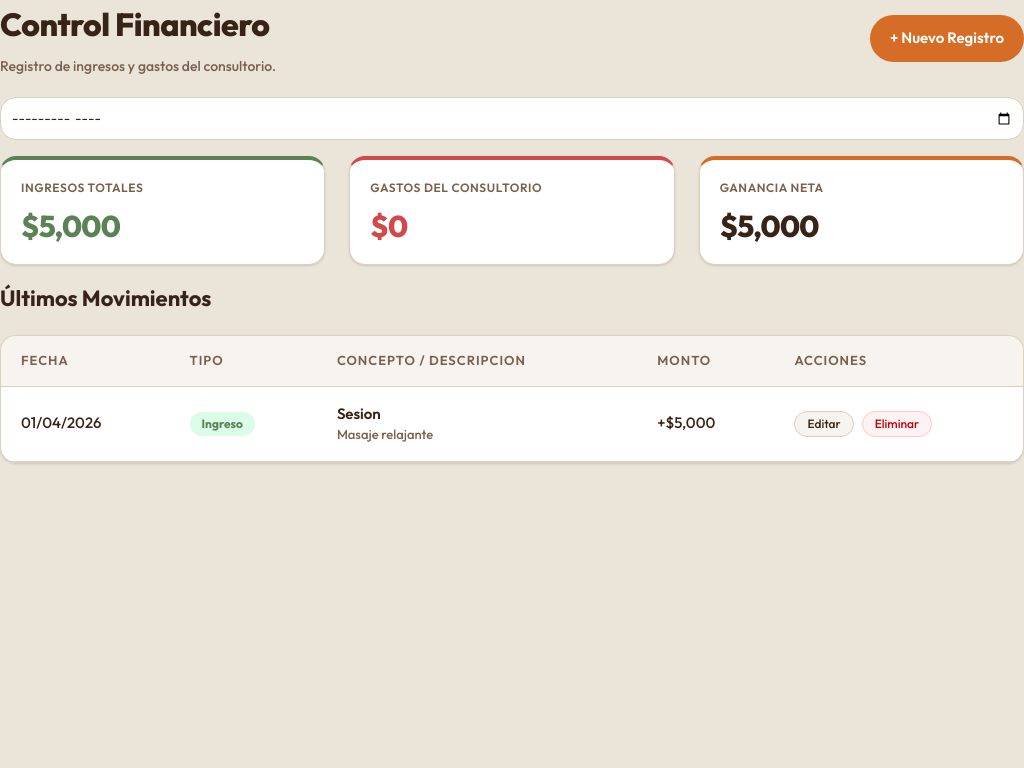
D28 — Independent submitting states › submitting edit form does not disable the create button
This screenshot has width=1024, height=768.
Expected: the text "Sesion" is shown, x1=337 y1=404 x2=381 y2=422
Click the button "Editar": point(824, 424) x1=794 y1=410 x2=854 y2=436
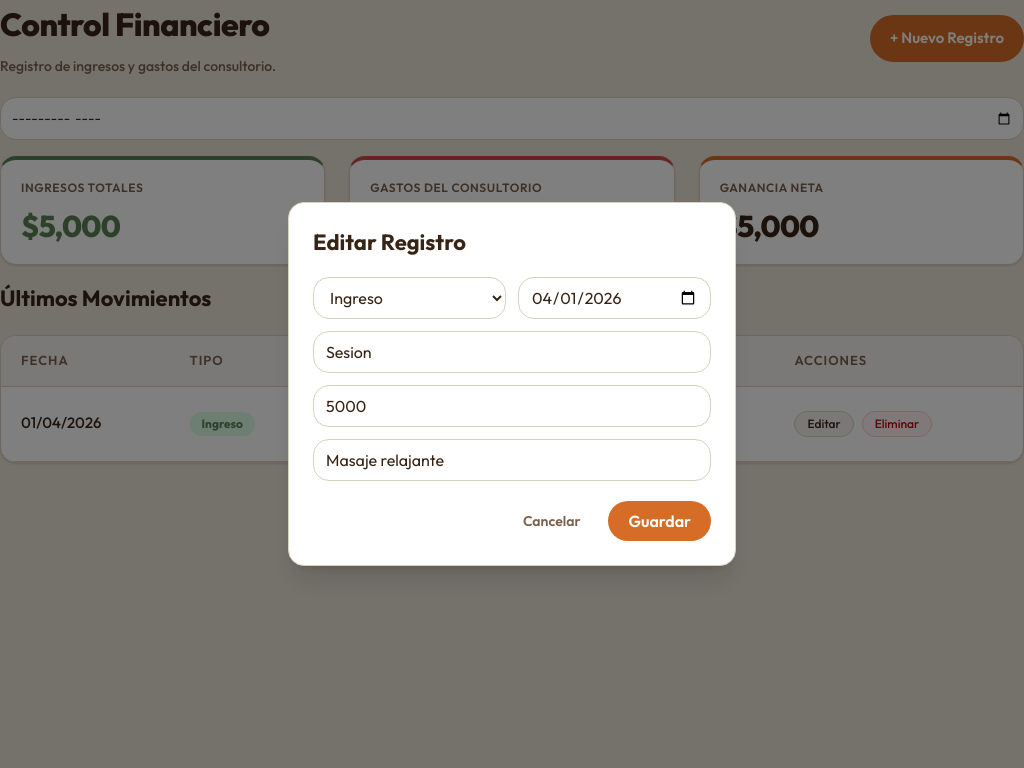
Now the heading "Editar Registro" is shown, box x1=313 y1=228 x2=466 y2=256
Submit the form, box x1=313 y1=277 x2=711 y2=541
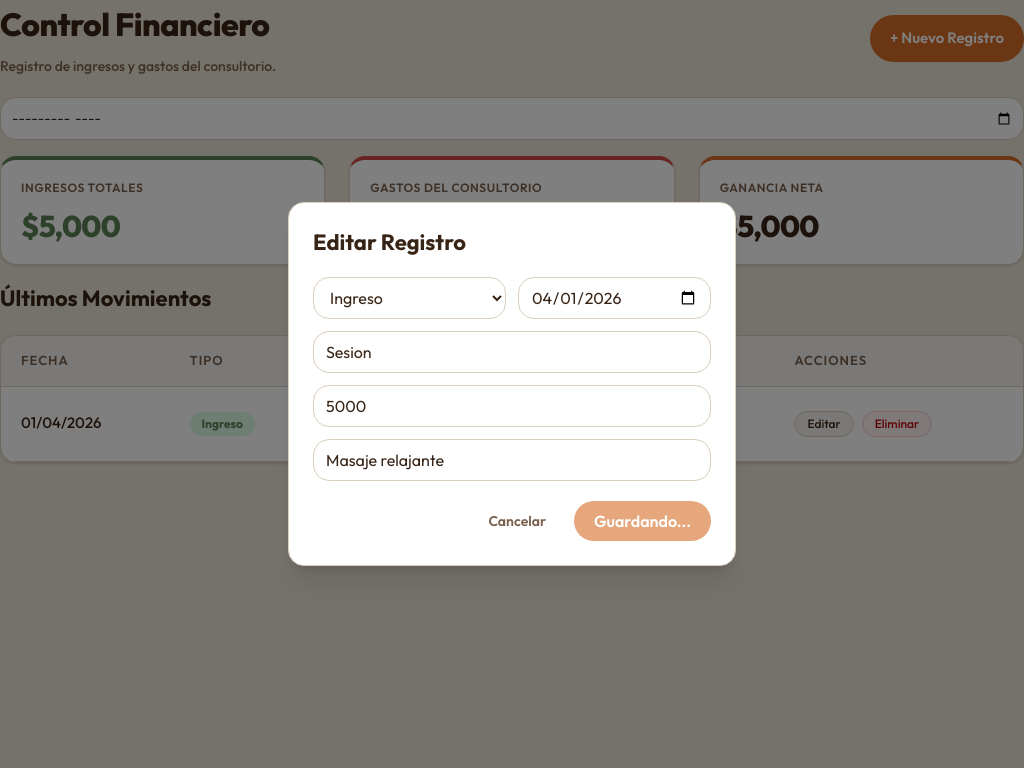
Click the button "Cancelar": point(517, 521) x1=472 y1=501 x2=562 y2=541
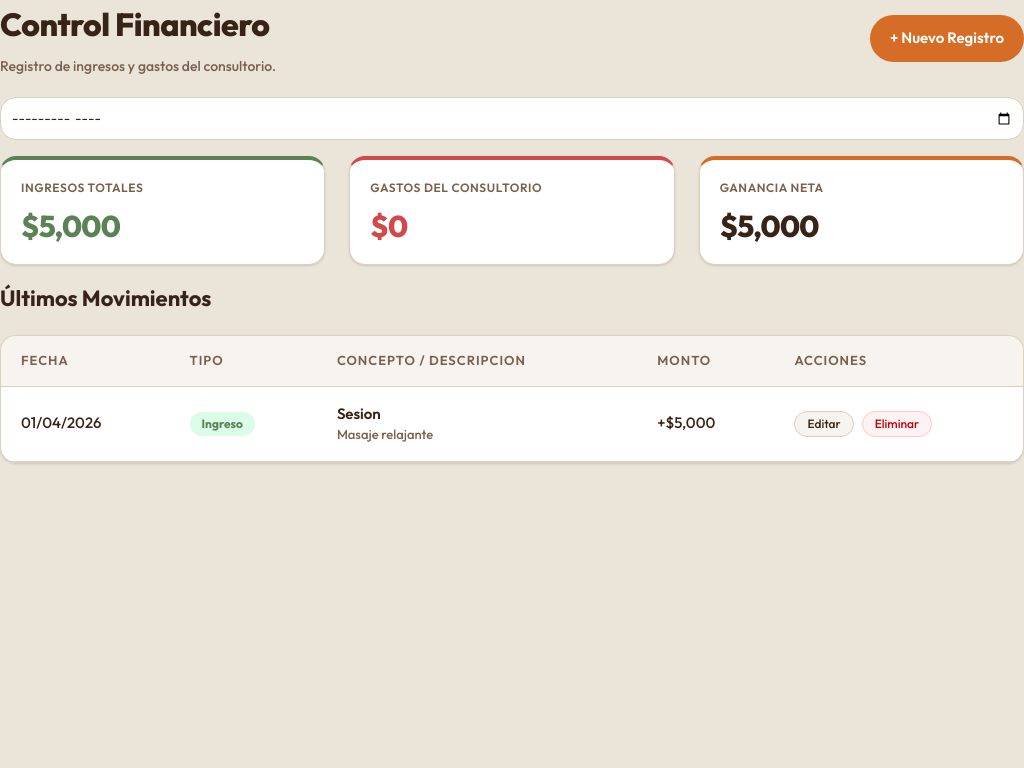
Click the button "+ Nuevo Registro": point(947, 39) x1=870 y1=15 x2=1023 y2=62
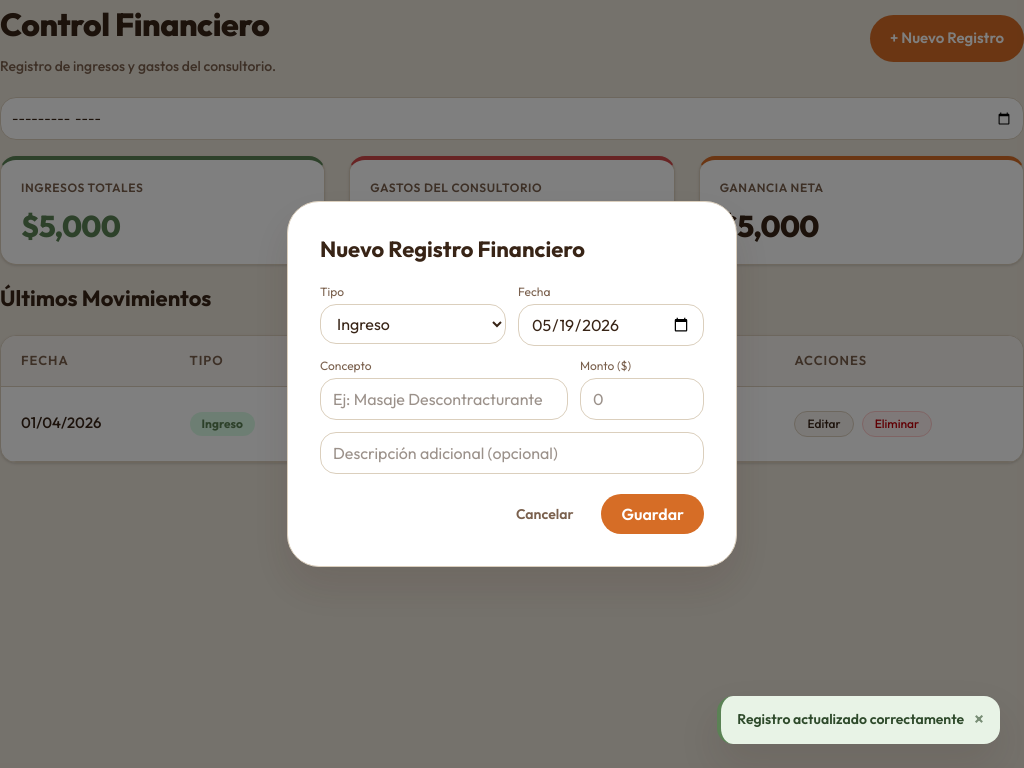
Now the heading "Nuevo Registro Financiero" is shown, box x1=320 y1=235 x2=585 y2=263
Now the button "Guardar" is enabled, box x1=602 y1=494 x2=704 y2=534
